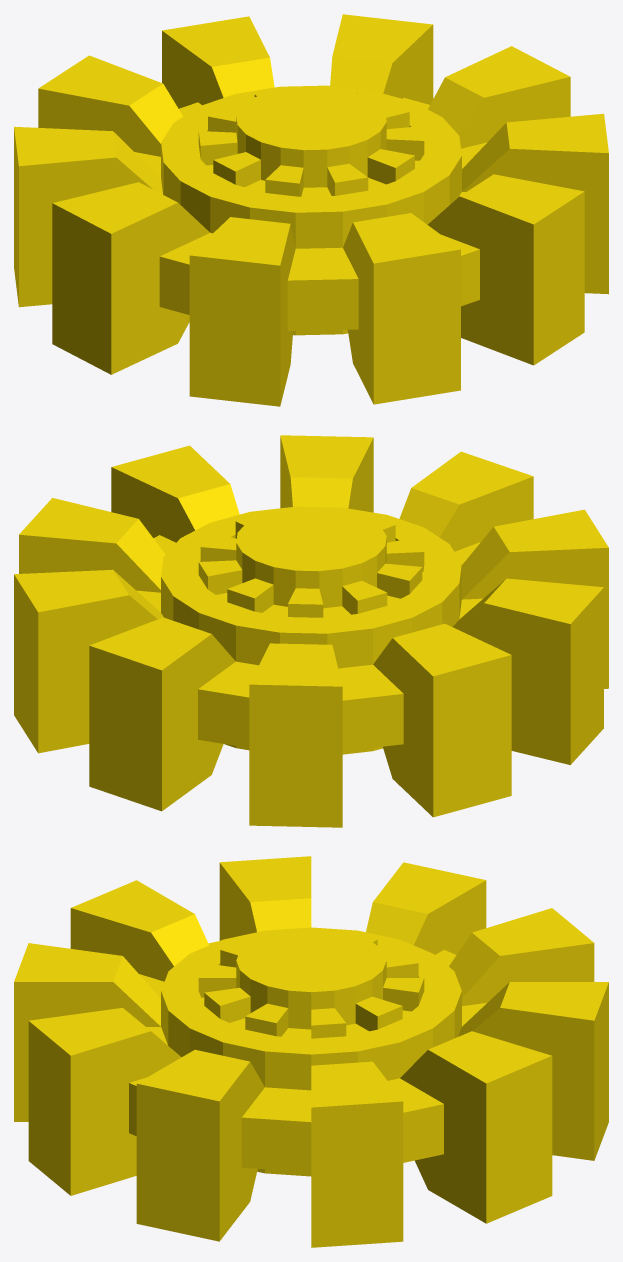
File: gear_2.fbx
3 views of the same model, one above another, from view 1: azimuth 30°, elevation 25°; view 2: azimuth 150°, elevation 25°; view 3: azimuth 270°, elevation 25° (orthographic).
Parts seen in each view (by area): view 1: Engrenage_1; view 2: Engrenage_1; view 3: Engrenage_1.
Boxes of the visible parts, <box> form: Engrenage_1: <box>14,14,608,406</box>; Engrenage_1: <box>14,435,608,827</box>; Engrenage_1: <box>14,856,608,1247</box>.
Bounding box in the file's own units: 2.64 × 0.8958 × 2.64.
